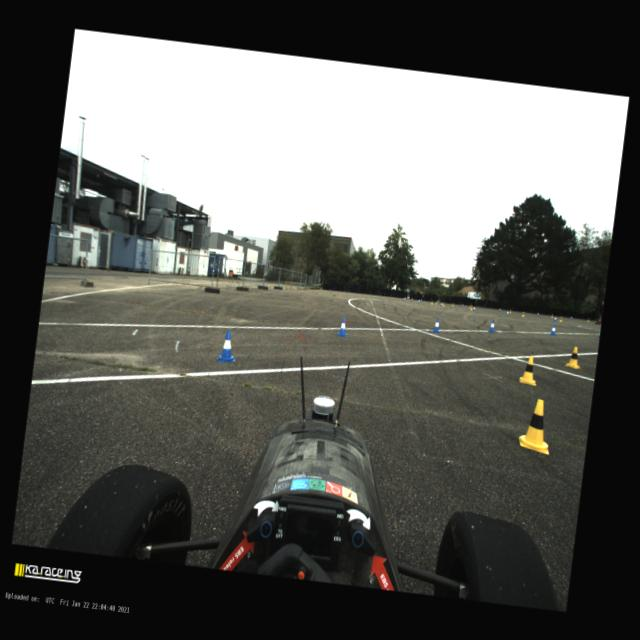blue_cone: (216, 329, 238, 364), (336, 316, 348, 337), (432, 317, 440, 332), (488, 319, 495, 332), (550, 324, 556, 335), (472, 306, 476, 310), (506, 310, 509, 315), (569, 315, 572, 320), (498, 307, 501, 311), (419, 298, 422, 302), (436, 299, 438, 304), (554, 316, 556, 320), (537, 311, 539, 315), (418, 298, 420, 302), (404, 296, 406, 300), (402, 296, 404, 300), (440, 302, 442, 306), (461, 302, 463, 306), (410, 298, 412, 300)
yellow_cone: (516, 397, 554, 454), (518, 354, 539, 386), (564, 345, 583, 368), (550, 312, 554, 318), (508, 308, 512, 313), (468, 303, 472, 308), (559, 316, 562, 322), (586, 316, 589, 322), (434, 299, 437, 304), (521, 312, 524, 316), (470, 305, 472, 310), (442, 301, 444, 306), (452, 302, 454, 306), (430, 300, 432, 304)
